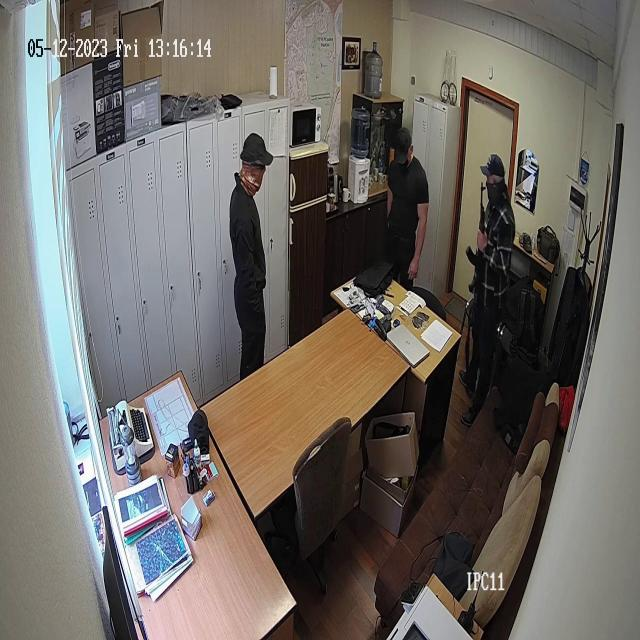gun: (466, 150, 515, 411), (227, 137, 269, 368), (385, 131, 427, 272), (465, 185, 490, 340)
